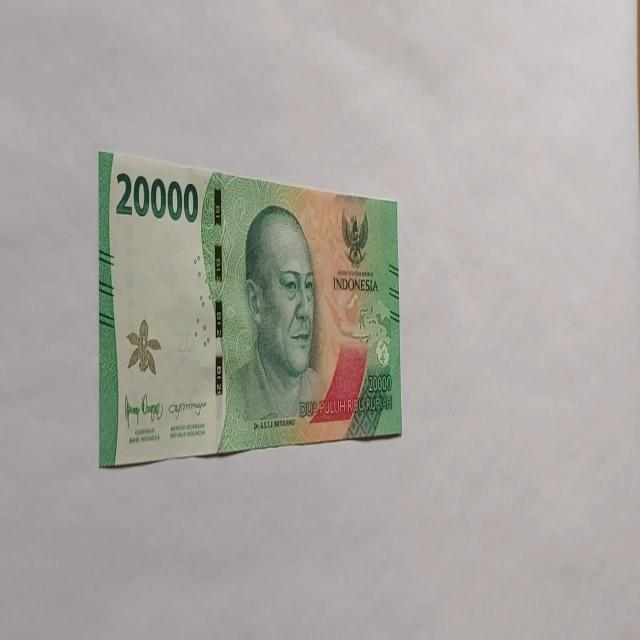dua puluh ribu rupiah: (97, 148, 403, 468), (215, 201, 368, 451)
